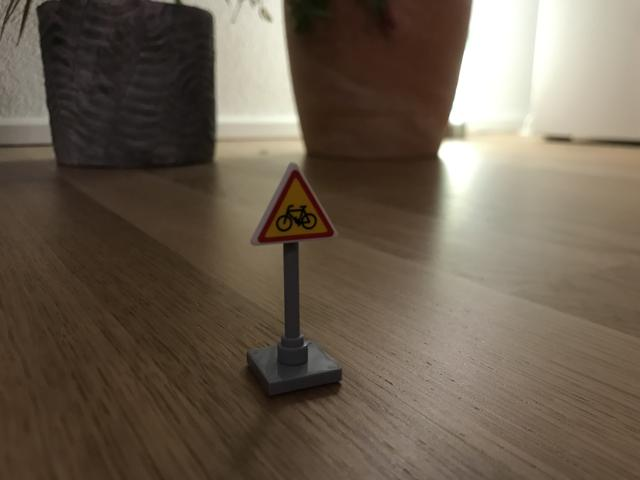radfahrer: (252, 166, 336, 244)
